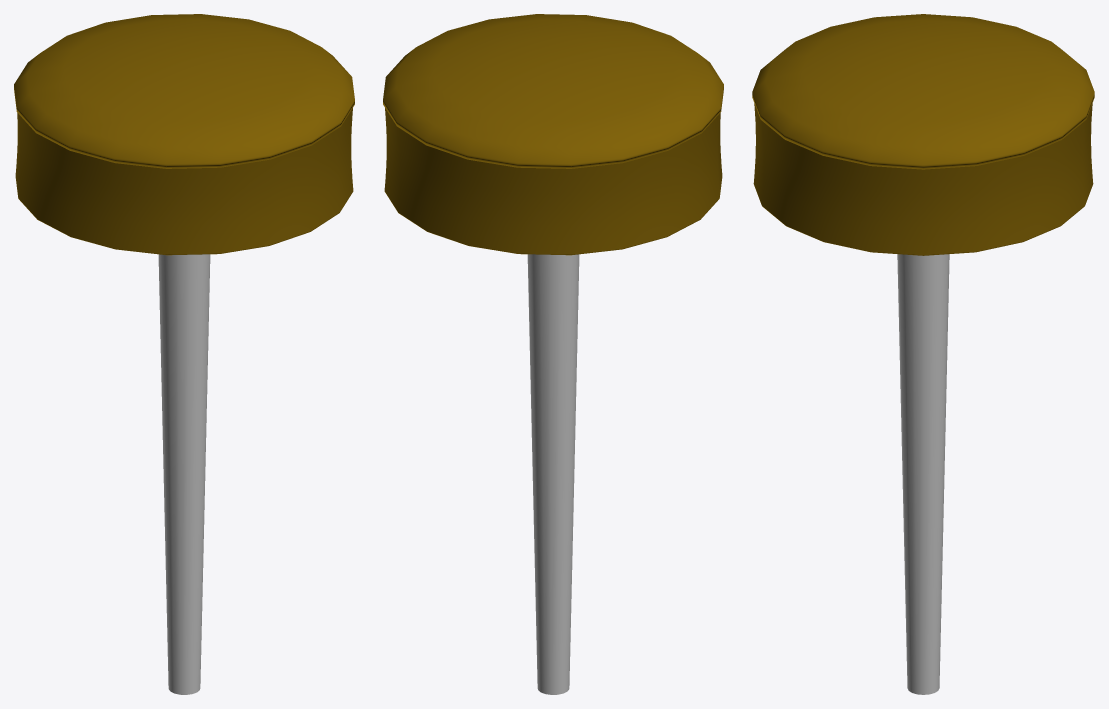
File: ballroom_barStool.fbx
3 views of the same model, side by side, from view 1: azimuth 30°, elevation 25°; view 2: azimuth 150°, elevation 25°; view 3: azimuth 270°, elevation 25° (orthographic).
Parts seen in each view (by area): view 1: polySurface9; view 2: polySurface9; view 3: polySurface9.
Boxes of the visible parts, x1,y1,x2,y2 form: polySurface9: (14,14,354,694); polySurface9: (383,14,723,694); polySurface9: (752,14,1094,694).
Size of the model in its own units: 14.13 by 28.46 by 14.13.
